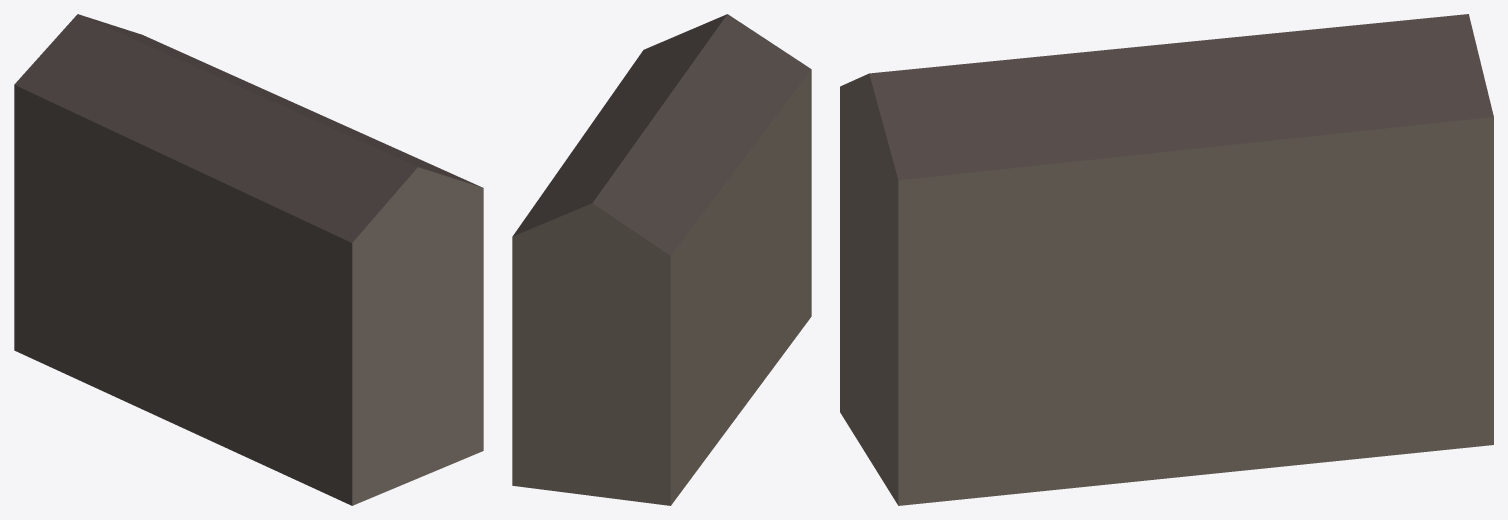
3 views of the same model, side by side, from view 1: azimuth 30°, elevation 25°; view 2: azimuth 150°, elevation 25°; view 3: azimuth 270°, elevation 25° (orthographic). The views are drawn at different scales.
Parts seen in each view (by area): view 1: HP-w776801012; view 2: HP-w776801012; view 3: HP-w776801012.
Boxes of the visible parts, x1,y1,x2,y2 form: HP-w776801012: (14,14,483,505); HP-w776801012: (512,14,811,505); HP-w776801012: (840,14,1493,505).
Size of the model in its own units: 5.96 by 7.11 by 10.92.
